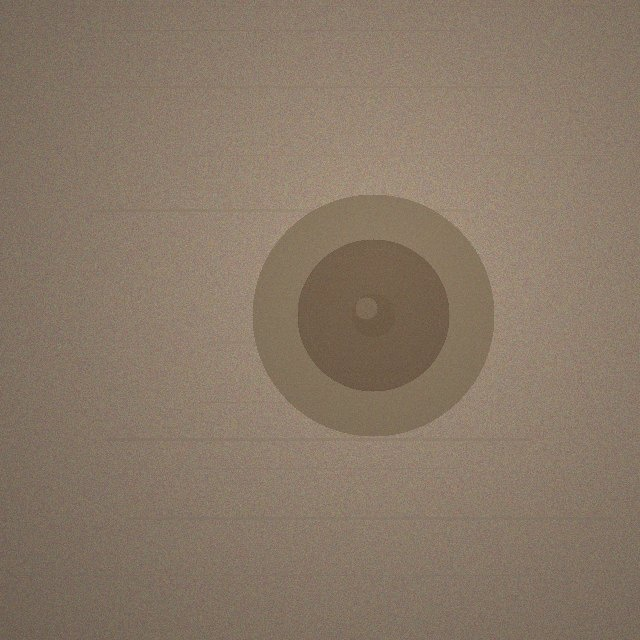good: (252, 194, 494, 436)
